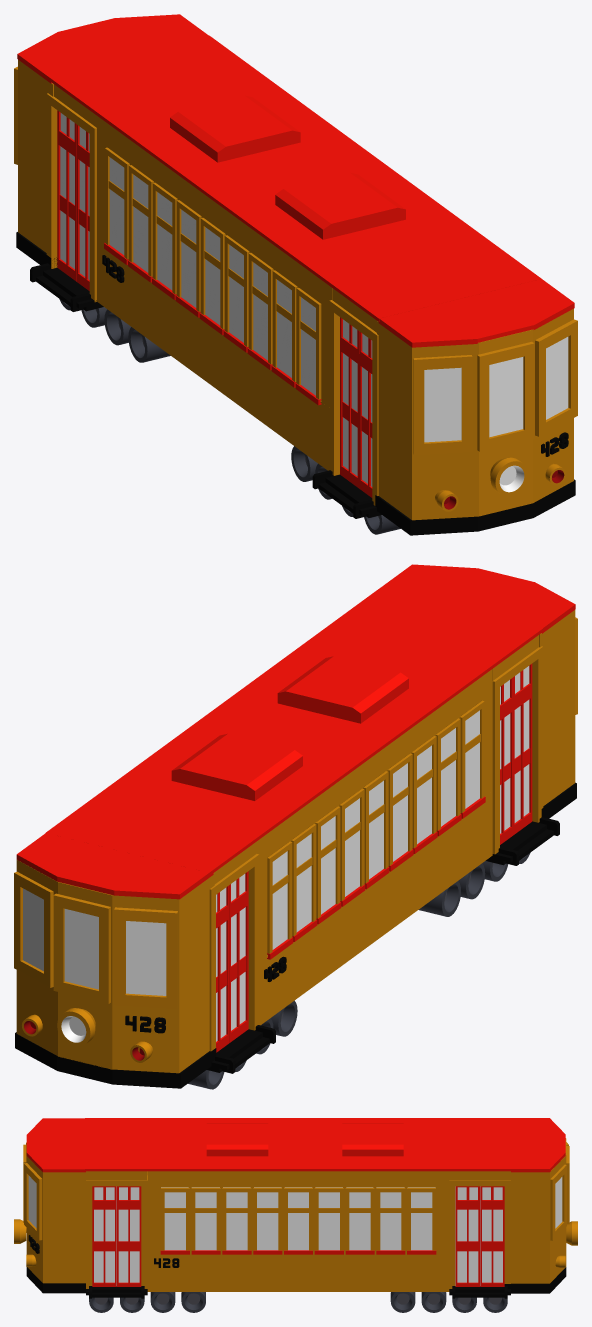
The model's file is tampastreetcar.glb.
3 views of the same model, one above another, from view 1: azimuth 30°, elevation 25°; view 2: azimuth 150°, elevation 25°; view 3: azimuth 270°, elevation 25° (orthographic). The views are drawn at different scales.
Visible parts, largest first — view 1: mergedBlocks(Clone); view 2: mergedBlocks(Clone); view 3: mergedBlocks(Clone).
Boxes of the visible parts, box(x1,y1,x2,y2) form: mergedBlocks(Clone): box(14, 14, 577, 535); mergedBlocks(Clone): box(14, 564, 577, 1089); mergedBlocks(Clone): box(14, 1118, 577, 1312).
Size of the model in its own units: 2.38 by 2.76 by 9.16.
